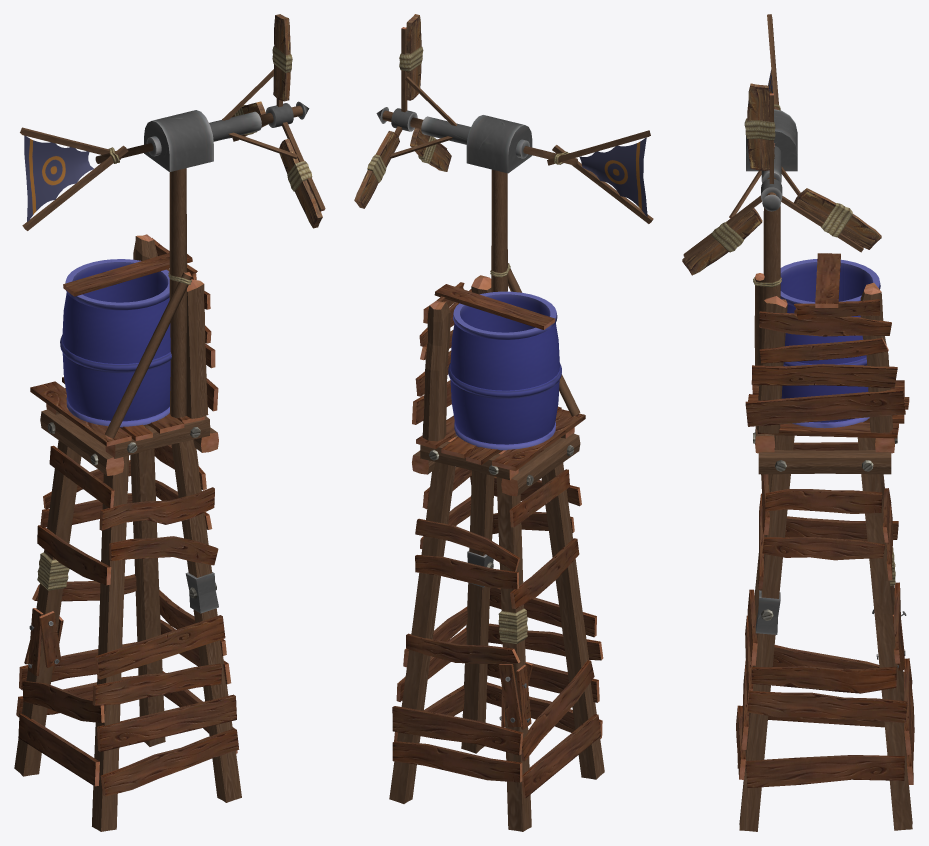
The model's file is handpainted_windmill_tower.glb.
The picture shows the model from 3 angles, left to right: view 1: azimuth 30°, elevation 25°; view 2: azimuth 150°, elevation 25°; view 3: azimuth 270°, elevation 25°; orthographic projection. The views are drawn at different scales.
Parts seen in each view (by area): view 1: Cube.096, Cylinder.025; view 2: Cube.096, Cylinder.025; view 3: Cube.096, Cylinder.025.
Boxes of the visible parts, x1,y1,x2,y2 form: Cube.096: [14, 101, 309, 831]; Cylinder.025: [222, 14, 325, 228]; Cube.096: [376, 107, 653, 831]; Cylinder.025: [354, 14, 457, 208]; Cube.096: [736, 14, 914, 831]; Cylinder.025: [682, 83, 881, 275].
Size of the model in its own units: 3.33 by 8.41 by 2.29.
Materials: 9 (9 with a texture image).
